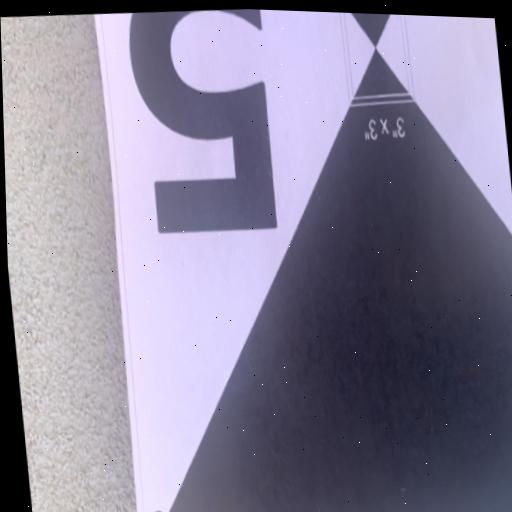target5: (92, 3, 512, 512)
